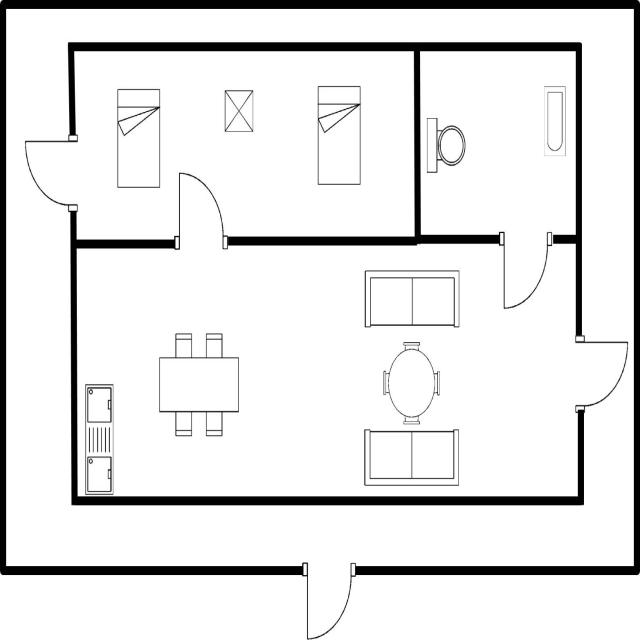bed: (113, 83, 163, 193), (315, 80, 363, 188)
coffee_table: (222, 85, 255, 138)
dining_table: (156, 327, 242, 443)
large_sink: (423, 114, 468, 180)
large_sofa: (362, 265, 462, 333), (359, 426, 461, 489)
round_table: (378, 338, 444, 424)
tub: (542, 80, 568, 162)
twin_sink: (82, 381, 117, 498)
